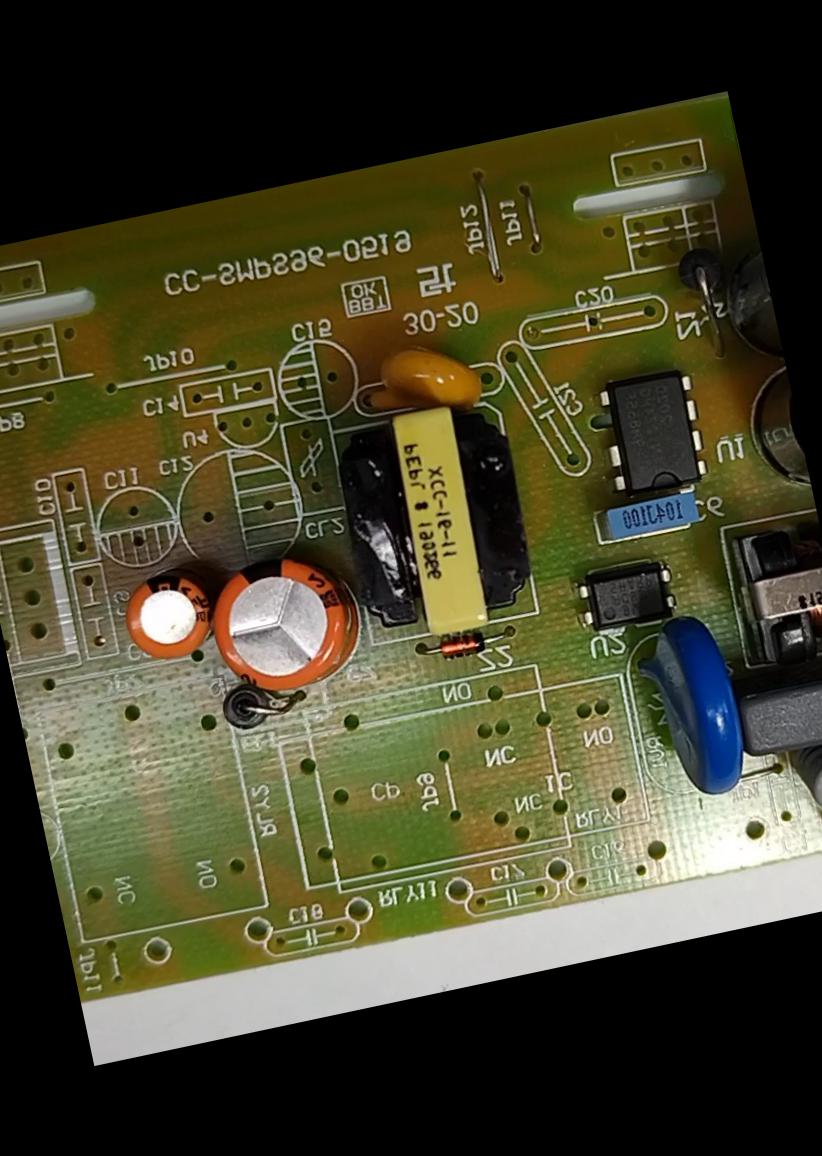Cap1: (196, 535, 372, 715)
Cap2: (109, 559, 228, 680)
Cap3: (732, 349, 812, 506)
Cap4: (705, 215, 782, 362)
MOSFET: (580, 362, 720, 504)
Mov: (612, 598, 762, 818)
Resistor: (776, 731, 821, 843)
Transformer: (320, 388, 544, 654), (713, 498, 821, 683)
